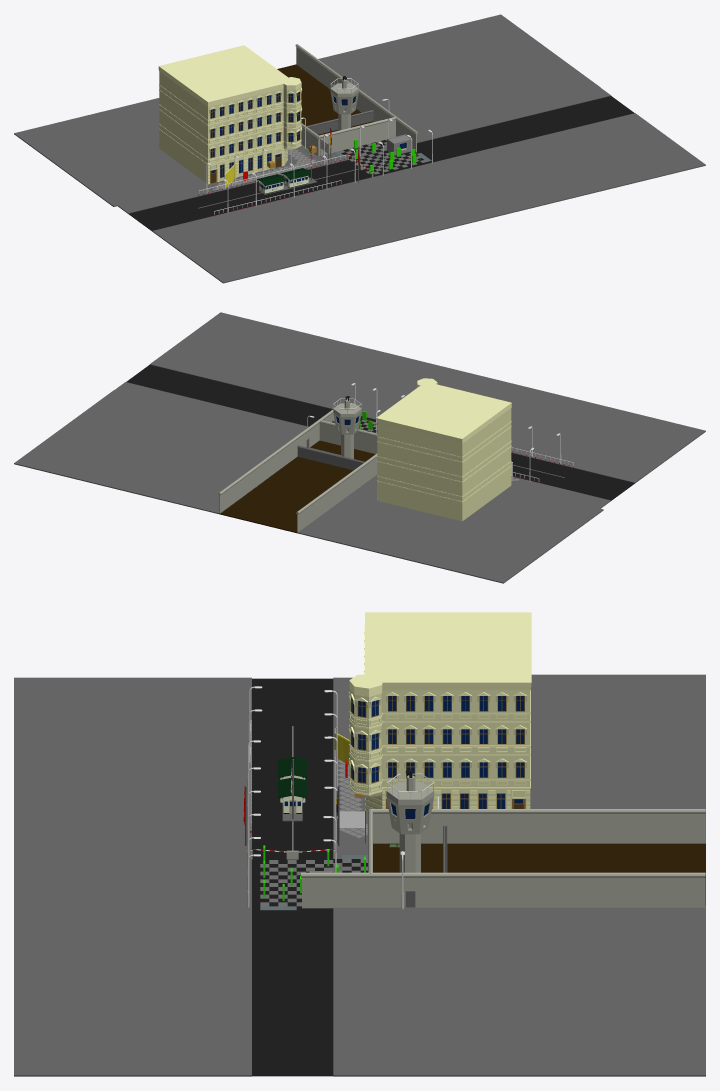
File: cpc.glb
3 views of the same model, one above another, from view 1: azimuth 30°, elevation 25°; view 2: azimuth 150°, elevation 25°; view 3: azimuth 270°, elevation 25° (orthographic). The views are drawn at different scales.
Visible parts, largest first — view 1: Cube.002, Cube.093, Cube.084, Cube, Cube.016, Cube.001, Cube.013, Cube.005, Cube.014, Cube.090, Cube.003, Cube.098 (+10 smaller); view 2: Cube.002, Cube.093, Cube.084, Cube, Cube.090, Cube.016, Cube.001, Cube.003, Cube.013, Cube.005, Cube.014, Cube.098 (+5 smaller); view 3: Cube.002, Cube.093, Cube, Cube.084, Cube.016, Cube.098, Cube.083, Cube.090, Cube.001, Cube.022, Cube.013, Cube.014 (+12 smaller).
Boxes of the visible parts, x1,y1,x2,y2 form: Cube.002: (152,113,705,283); Cube.093: (318,14,600,131); Cube.084: (14,98,317,206); Cube: (128,96,634,231); Cube.016: (158,45,287,106); Cube.001: (117,87,611,213); Cube.013: (159,91,283,144); Cube.005: (159,110,283,163); Cube.014: (159,72,283,124); Cube.090: (277,64,373,135); Cube.003: (159,130,287,183); Cube.098: (296,47,416,152); Cube.002: (149,312,705,483); Cube.093: (14,390,297,513); Cube.084: (297,475,603,583); Cube: (126,365,634,500); Cube.090: (219,440,375,533); Cube.016: (376,384,511,443); Cube.001: (115,382,610,508); Cube.003: (377,467,511,521); Cube.013: (377,427,511,481); Cube.005: (377,447,511,501); Cube.014: (377,408,511,461); Cube.098: (219,413,334,513); Cube.002: (14,677,251,1076); Cube.093: (370,906,705,1076); Cube: (252,678,333,1076); Cube.084: (530,674,705,842); Cube.016: (365,612,531,690); Cube.098: (302,877,705,908); Cube.083: (373,813,705,843); Cube.090: (373,843,705,905); Cube.001: (333,677,370,1076); Cube.022: (388,696,524,808); Cube.013: (382,722,530,753); Cube.014: (382,690,530,720).
Bounding box in the file's own units: 104 × 17.84 × 75.71.
Materials: 37 (1 with a texture image).
